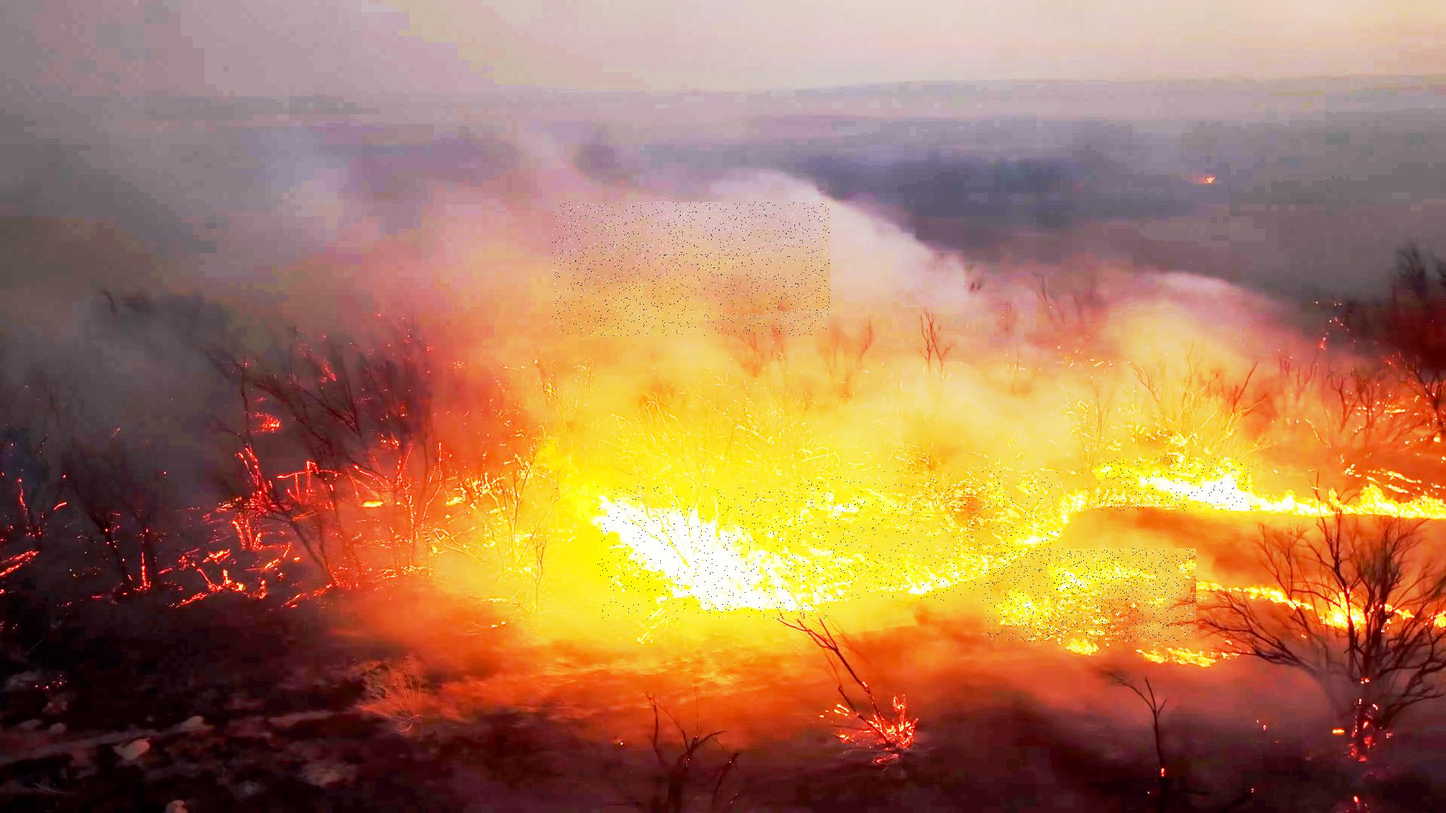fire: (801, 471, 1059, 602), (597, 486, 832, 619), (987, 548, 1196, 642), (1099, 457, 1252, 511)
smoke: (552, 202, 830, 336)
